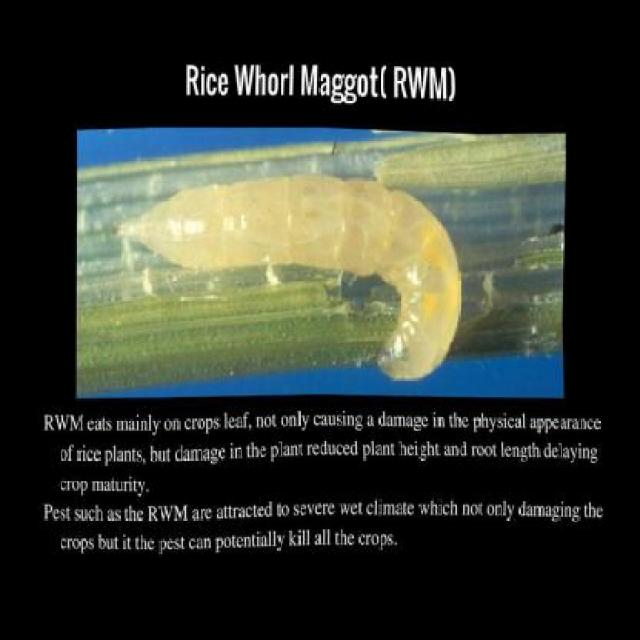whorl-maggot: (108, 166, 472, 386)
